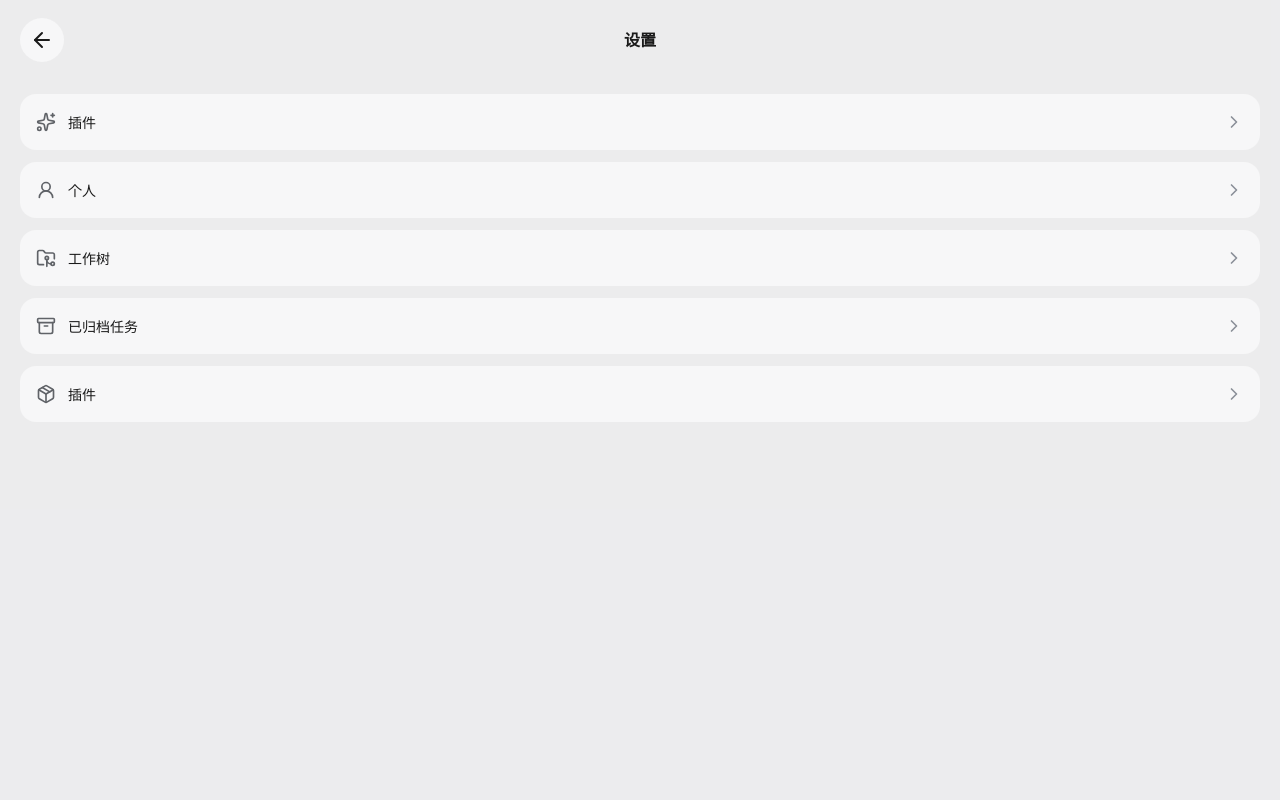
Test case: MobileSettingsPage › opens appearance settings on mobile
Step 1. Click the button with test id "mobile-settings-personal-button" → {"x": 46, "y": 190}, box [20,162,1260,218]
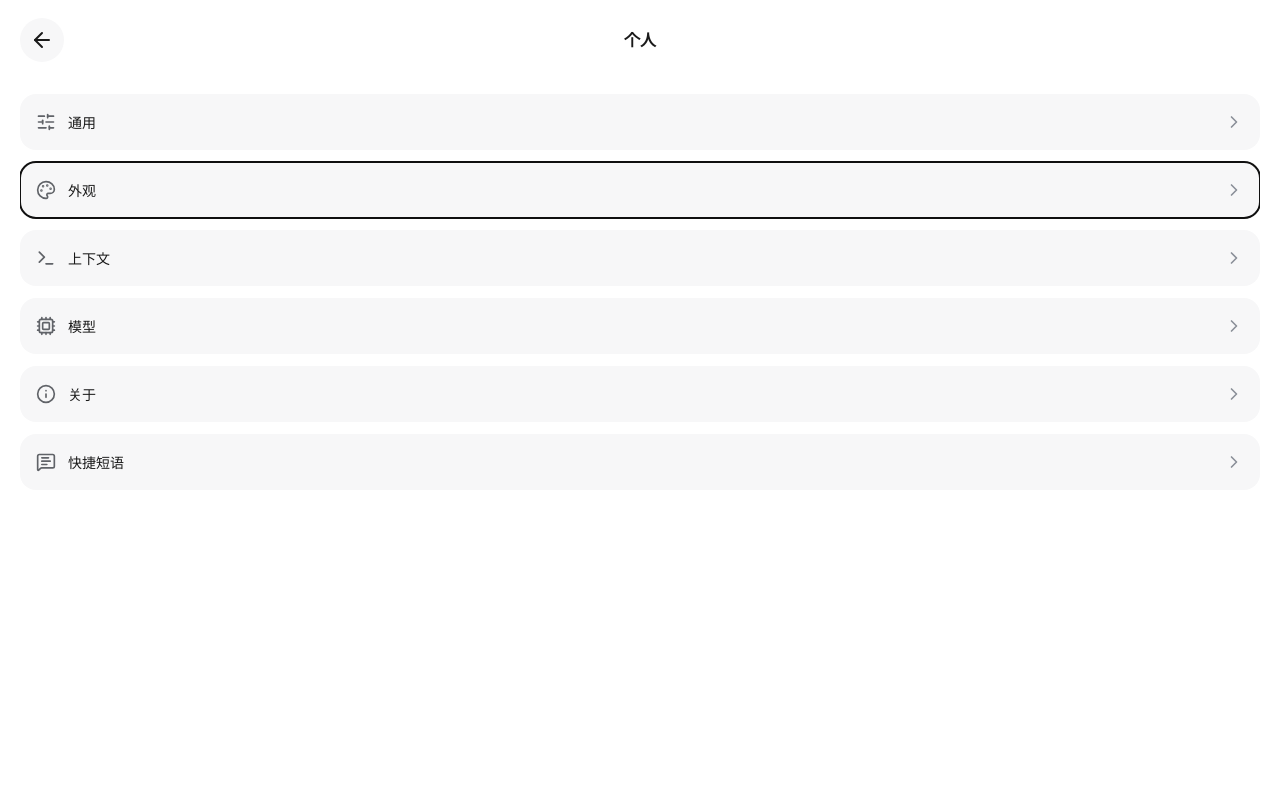
Step 2. Click the button with test id "mobile-settings-appearance-button" → {"x": 46, "y": 190}, box [20,162,1260,218]
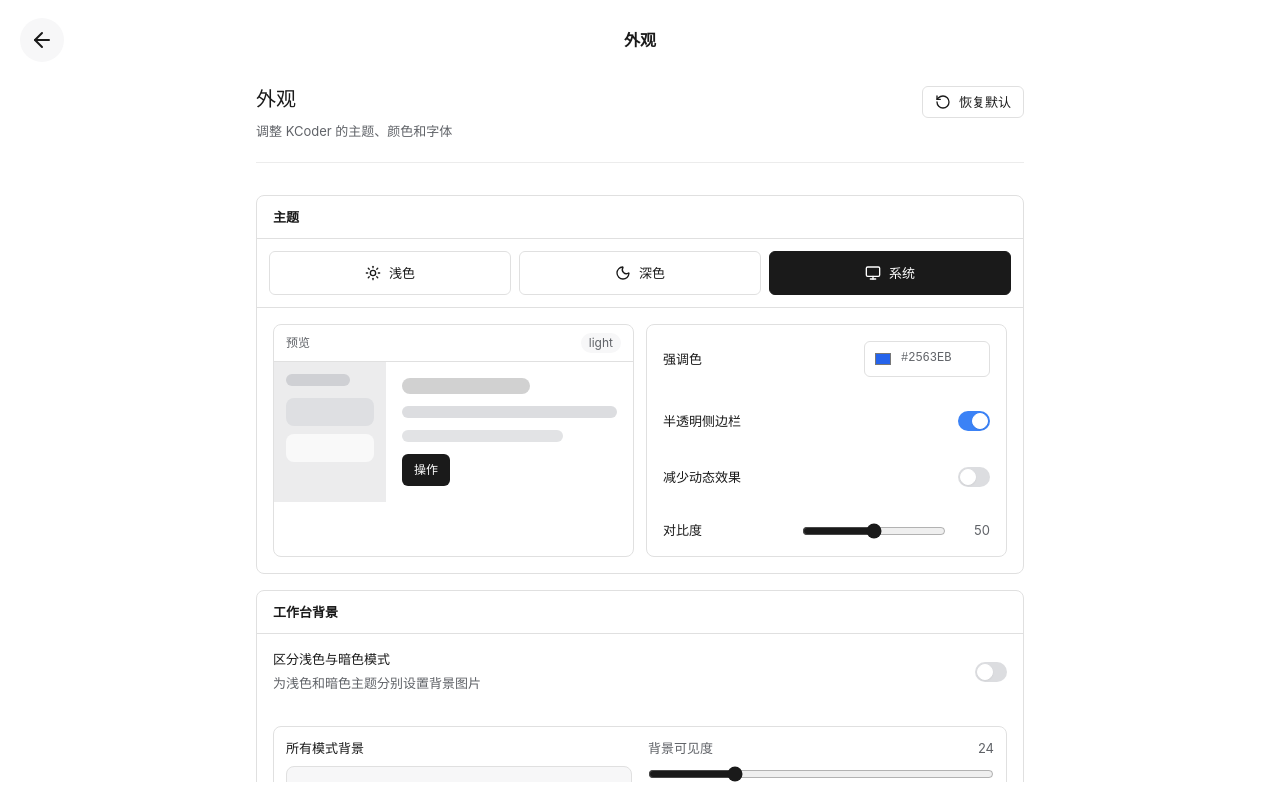
Now the element with test id "mobile-appearance-settings-page" is shown
Step 3. Click the button with test id "mobile-appearance-back-button" → {"x": 42, "y": 40}, box [20,18,64,62]
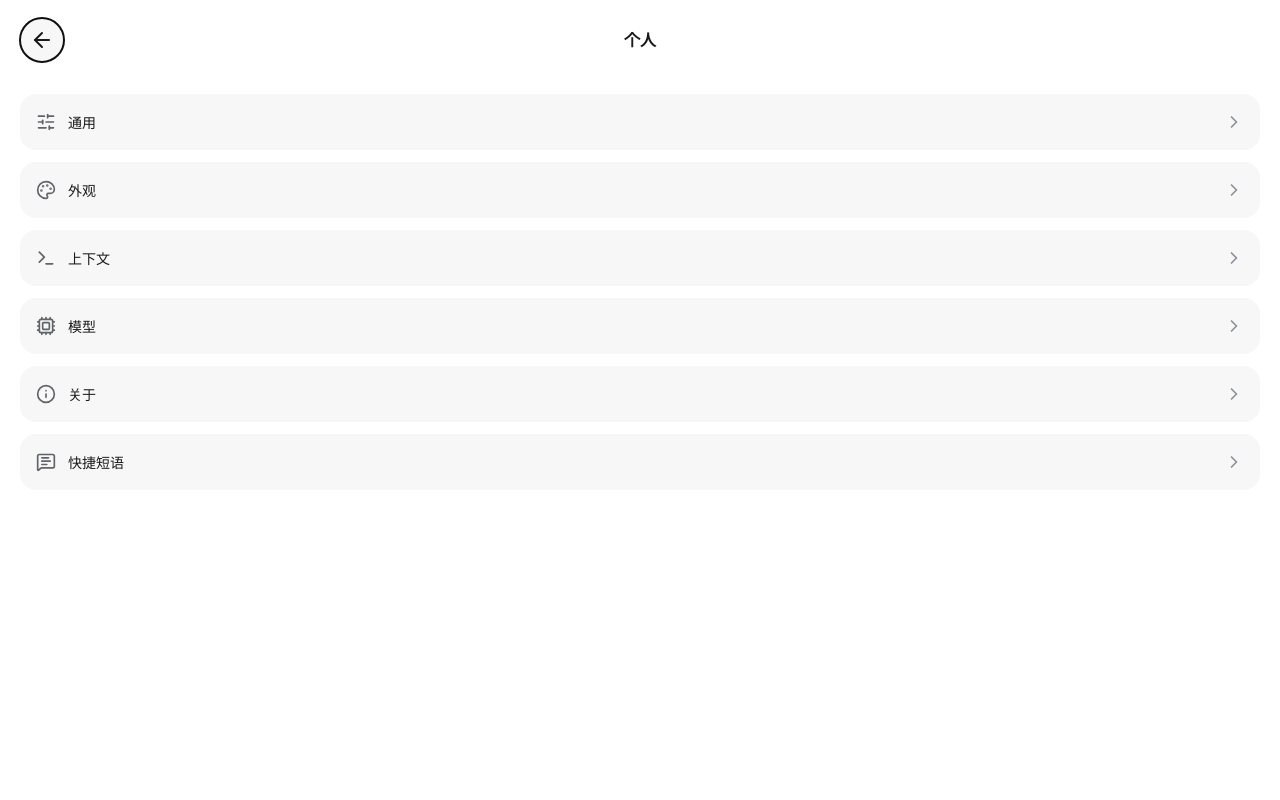
Now the element with test id "mobile-personal-settings-page" is shown
